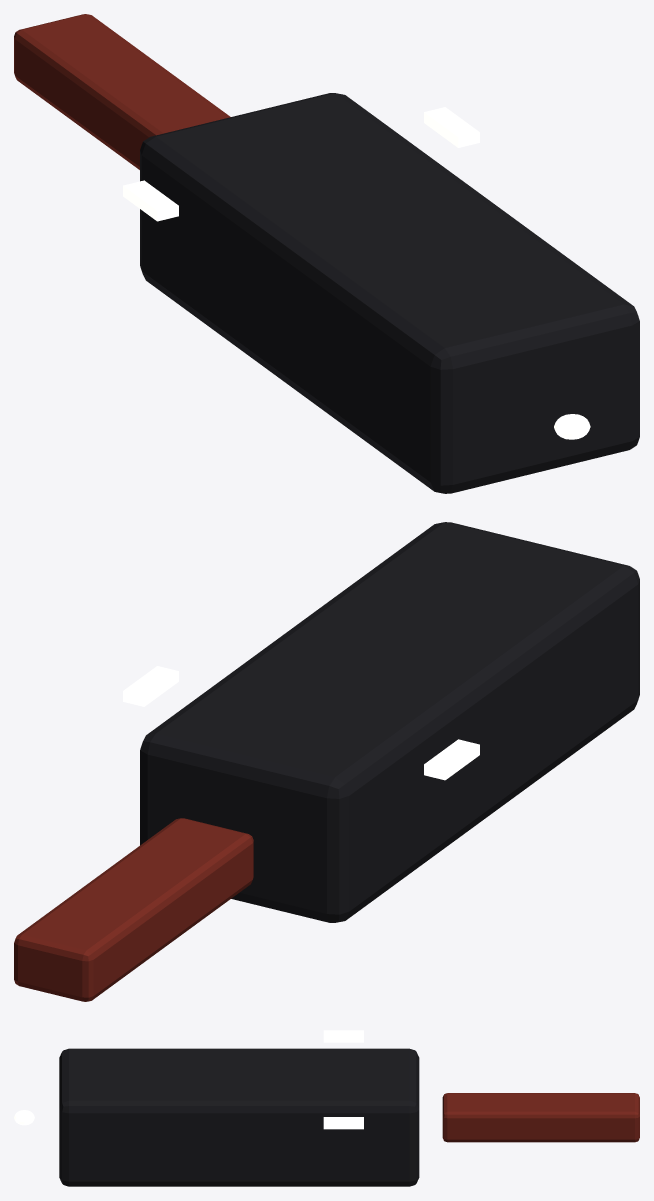
3 renders of one model, top to bottom at view 1: azimuth 30°, elevation 25°; view 2: azimuth 150°, elevation 25°; view 3: azimuth 270°, elevation 25°, orthographic. The views are drawn at different scales.
Visible parts, largest first — view 1: RIMWARD_HULL, RIMWARD_EMISSIVE, RIMWARD_ENGINE_GLOW; view 2: RIMWARD_HULL, RIMWARD_EMISSIVE; view 3: RIMWARD_HULL, RIMWARD_EMISSIVE, RIMWARD_ENGINE_GLOW.
Part boxes in pixels (x1=…): RIMWARD_HULL: x1=14, y1=14, x2=639, y2=493; RIMWARD_EMISSIVE: x1=123, y1=107, x2=479, y2=221; RIMWARD_ENGINE_GLOW: x1=554, y1=414, x2=590, y2=439; RIMWARD_HULL: x1=14, y1=522, x2=639, y2=1001; RIMWARD_EMISSIVE: x1=123, y1=666, x2=479, y2=780; RIMWARD_HULL: x1=59, y1=1048, x2=639, y2=1186; RIMWARD_EMISSIVE: x1=323, y1=1030, x2=363, y2=1129; RIMWARD_ENGINE_GLOW: x1=14, y1=1110, x2=34, y2=1125.
Bounding box in the file's own units: 2.95 × 1.27 × 8.41.
